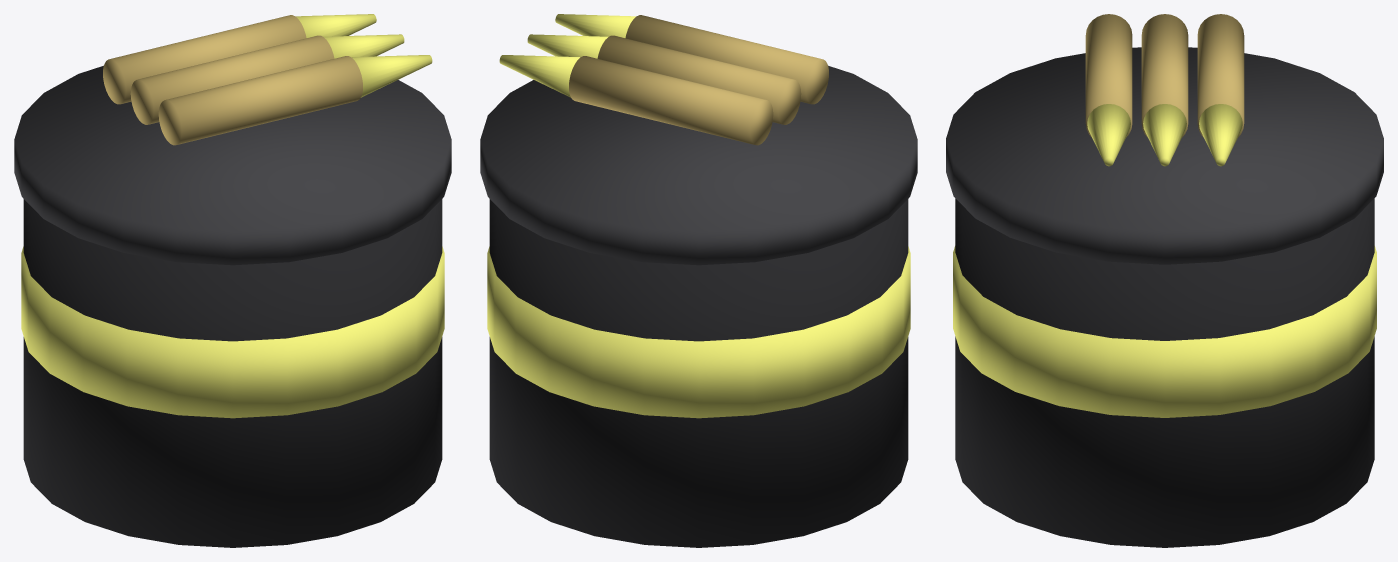
File: SM_AmmoTracer.glb
3 renders of one model, left to right at view 1: azimuth 30°, elevation 25°; view 2: azimuth 150°, elevation 25°; view 3: azimuth 270°, elevation 25°, orthographic.
Visible parts, largest first — view 1: SM_AmmoTracer; view 2: SM_AmmoTracer; view 3: SM_AmmoTracer.
Part boxes in pixels (<box>): SM_AmmoTracer: <box>14,14,451,547</box>; SM_AmmoTracer: <box>480,14,917,547</box>; SM_AmmoTracer: <box>946,14,1383,547</box>.
Bounding box in the file's own units: 0.094 × 0.095 × 0.094.
